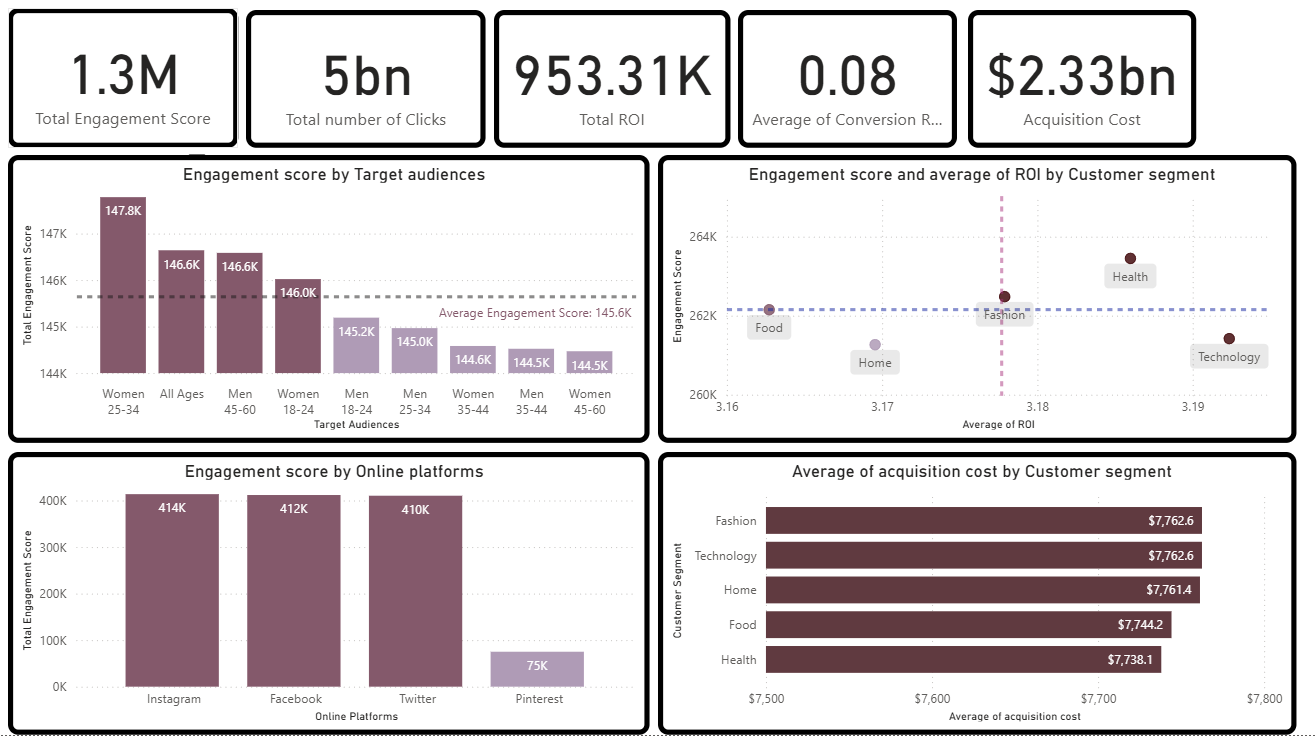

Layout of this report page (visuals, bound fields, positions):
{"tool":"powerbi","page":{"name":"Page 1","canvas":[1280,720],"ordinal":0},"visuals":[{"type":"card","fields":{"Values":["Sum(Social_Media_Advertising.Engagement_Score)"]},"box":[7.8,12.6,223.7,136.2],"z":0},{"type":"card","fields":{"Values":["Sum(Social_Media_Advertising.Clicks)"]},"box":[239.3,14.6,233.4,134.2],"z":1000},{"type":"card","fields":{"Values":["Sum(Social_Media_Advertising.ROI)"]},"box":[480.5,14.6,229.5,134.2],"z":2000},{"type":"card","fields":{"Values":["Avg(Social_Media_Advertising.Conversion_Rate)"]},"box":[717.8,14.6,213,134.2],"z":3000},{"type":"card","fields":{"Values":["Sum(Social_Media_Advertising.Acquisition_Cost)"]},"box":[941.5,14.6,221.8,134.2],"z":4000},{"type":"clusteredColumnChart","title":"Engagement score by Target audiences","fields":{"Category":["Social_Media_Advertising.Target_Audience"],"Y":["Sum(Social_Media_Advertising.Engagement_Score)"]},"box":[7.8,155.6,624.4,280.1],"z":5000},{"type":"clusteredColumnChart","title":"Engagement score by Online platforms","fields":{"Y":["Sum(Social_Media_Advertising.Engagement_Score)"],"Category":["Social_Media_Advertising.Channel_Used"]},"box":[7.8,444.5,624.4,275.3],"z":6000},{"type":"scatterChart","title":"Engagement score and average of ROI by Customer segment","fields":{"X":["Avg(Social_Media_Advertising.ROI)"],"Series":["Social_Media_Advertising.Customer_Segment"],"Y":["Sum(Social_Media_Advertising.Engagement_Score)"]},"box":[640,155.6,620.5,280.1],"z":7000},{"type":"clusteredBarChart","title":"Average of acquisition cost by Customer segment","fields":{"Y":["Avg(Social_Media_Advertising.Acquisition_Cost)"],"Category":["Social_Media_Advertising.Customer_Segment"]},"box":[640,444.5,620.5,275.3],"z":8000}]}

Visuals, with their boxes in screenshot pixels (x1, y1, x2, y2), scaled from the page's 1280x720 canvas onto the 1315x736 screenshot:
card - Sum(Social_Media_Advertising.Engagement_Score): <bbox>8, 13, 238, 152</bbox>
card - Sum(Social_Media_Advertising.Clicks): <bbox>246, 15, 486, 152</bbox>
card - Sum(Social_Media_Advertising.ROI): <bbox>494, 15, 729, 152</bbox>
card - Avg(Social_Media_Advertising.Conversion_Rate): <bbox>737, 15, 956, 152</bbox>
card - Sum(Social_Media_Advertising.Acquisition_Cost): <bbox>967, 15, 1195, 152</bbox>
"Engagement score by Target audiences" clusteredColumnChart: <bbox>8, 159, 649, 445</bbox>
"Engagement score by Online platforms" clusteredColumnChart: <bbox>8, 454, 649, 735</bbox>
"Engagement score and average of ROI by Customer segment" scatterChart: <bbox>658, 159, 1295, 445</bbox>
"Average of acquisition cost by Customer segment" clusteredBarChart: <bbox>658, 454, 1295, 735</bbox>
